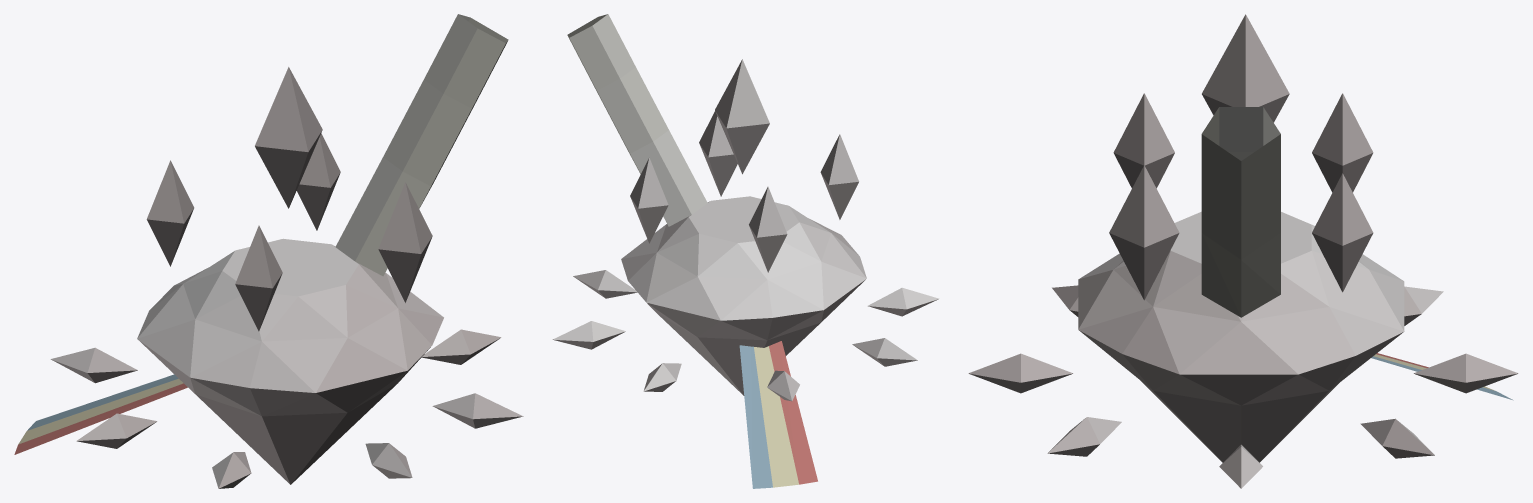
The model's file is diamond_bolt_proc.glb.
3 renders of one model, left to right at view 1: azimuth 30°, elevation 25°; view 2: azimuth 150°, elevation 25°; view 3: azimuth 270°, elevation 25°, orthographic. The views are drawn at different scales.
Parts seen in each view (by area): view 1: Diamond bolt proc spotanim; view 2: Diamond bolt proc spotanim; view 3: Diamond bolt proc spotanim.
Boxes of the visible parts, x1,y1,x2,y2 form: Diamond bolt proc spotanim: (14, 14, 523, 488); Diamond bolt proc spotanim: (552, 14, 939, 488); Diamond bolt proc spotanim: (968, 14, 1518, 488).
Size of the model in its own units: 127 by 118 by 125.
